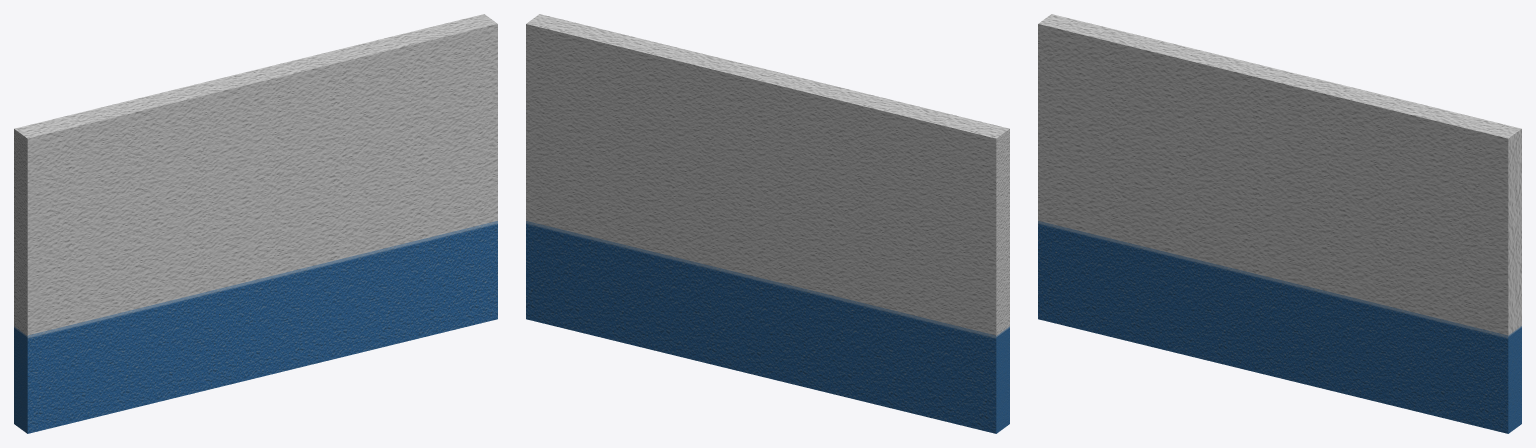
File: wall.fbx
3 renders of one model, left to right at view 1: azimuth 30°, elevation 25°; view 2: azimuth 150°, elevation 25°; view 3: azimuth 330°, elevation 25°, orthographic.
Parts seen in each view (by area): view 1: Plane.001; view 2: Plane.001; view 3: Plane.001.
Boxes of the visible parts, x1,y1,x2,y2 form: Plane.001: (14,14,497,433); Plane.001: (526,14,1009,433); Plane.001: (1038,14,1521,433).
Bounding box in the file's own units: 1000 × 600 × 50.
1 material, 1 textured.
